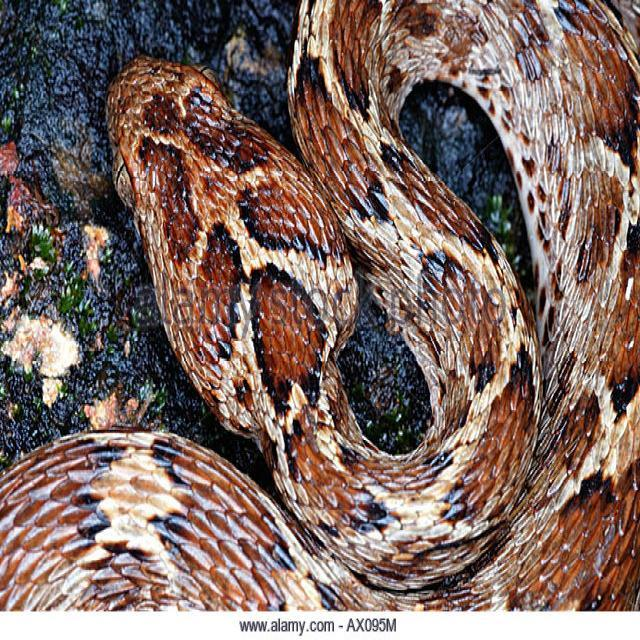Snake: (14, 0, 640, 640)
